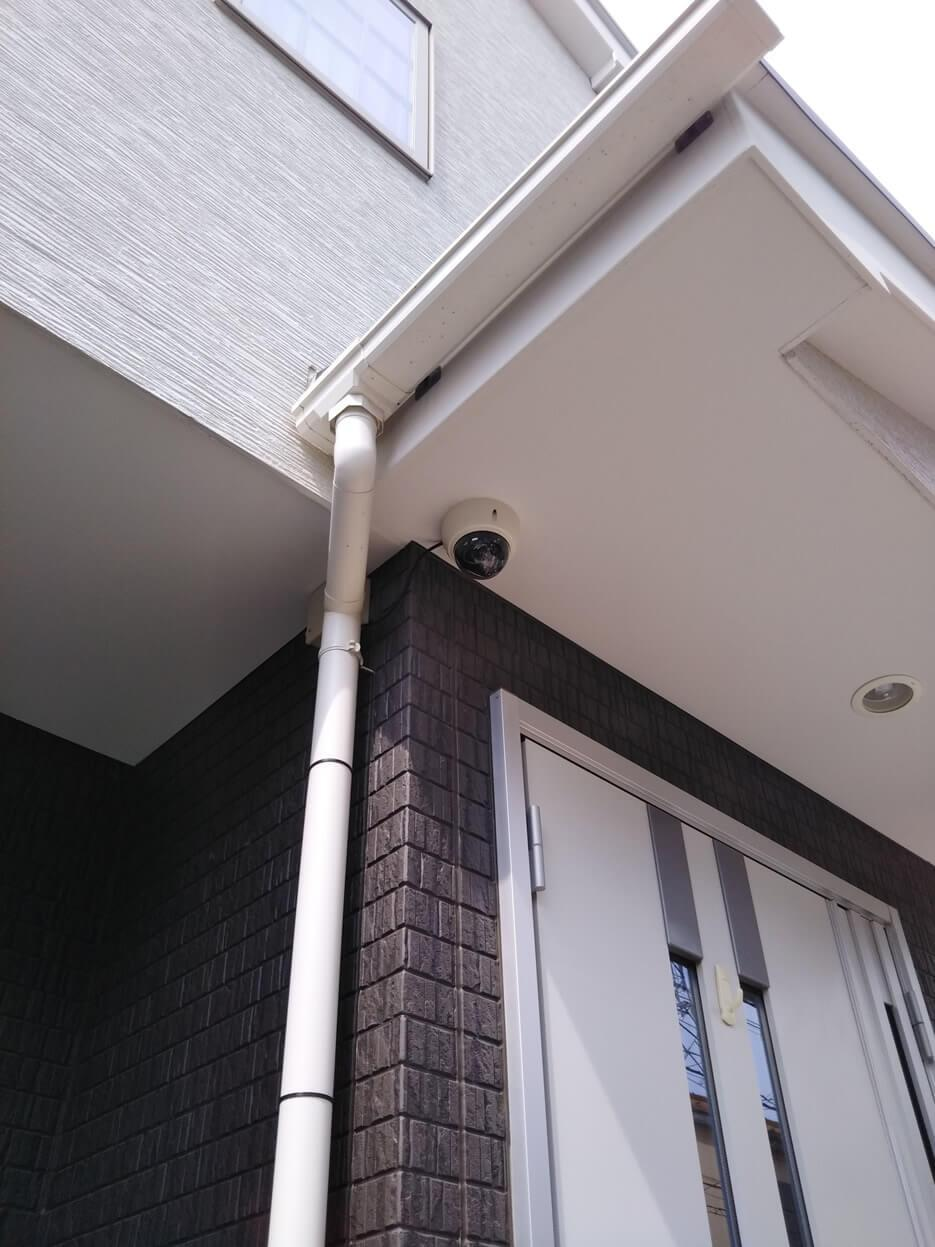maru: (433, 495, 521, 591)
